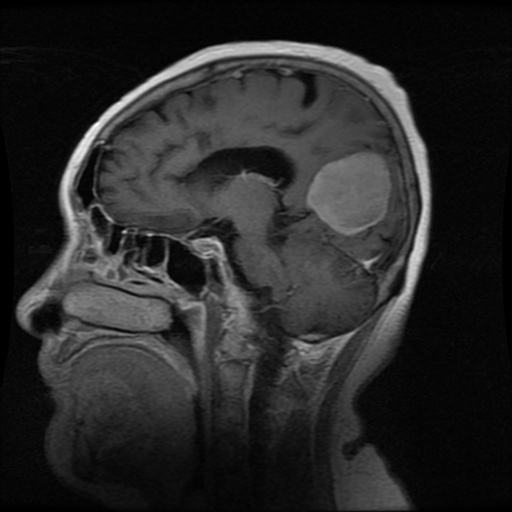meningioma: (310, 151, 391, 235)
